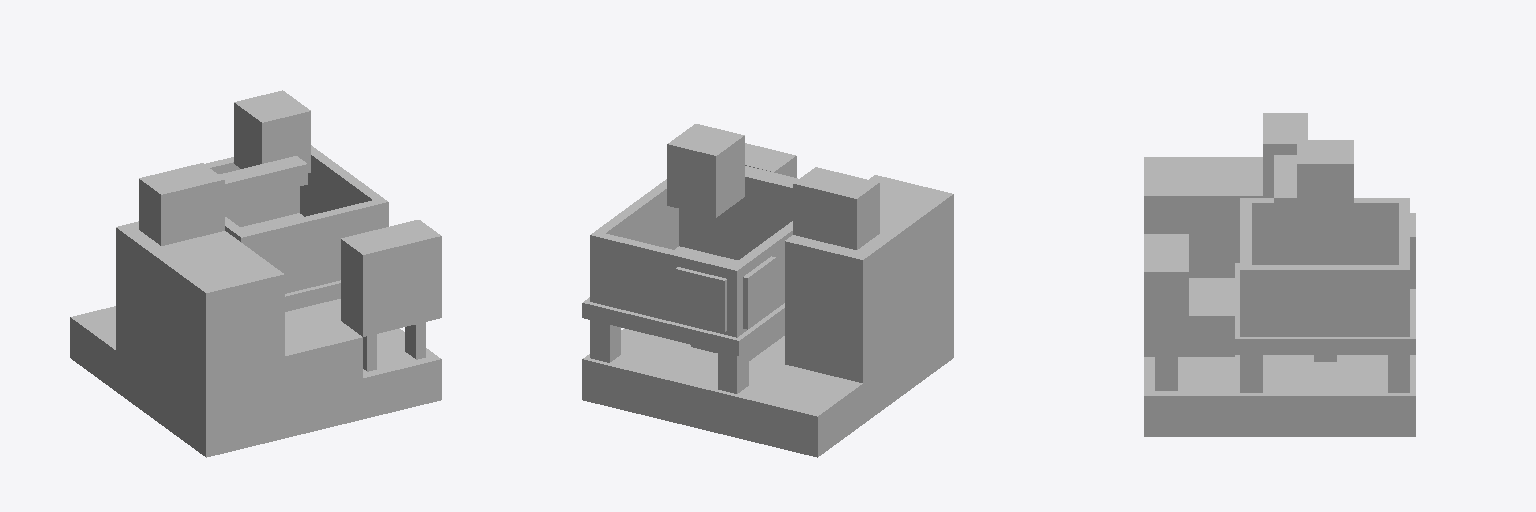
File: mixer.obj
3 views of the same model, side by side, from view 1: azimuth 30°, elevation 25°; view 2: azimuth 150°, elevation 25°; view 3: azimuth 270°, elevation 25° (orthographic).
Parts seen in each view (by area): view 1: energy, base, redstone, tank3, block, output, motor, tank2, arm, tank4, bottom, leg1; view 2: energy, base, tank4, motor, block, tank3, bottom, tank2, in1, tank1, in2, arm (+3 smaller); view 3: base, tank2, energy, tank1, redstone, motor, bottom, output, block, arm, fence3, fence4 (+3 smaller).
Boxes of the visible parts, <box> form: energy: <box>116,221,284,416</box>; base: <box>70,299,441,457</box>; redstone: <box>341,220,441,336</box>; tank3: <box>246,200,378,293</box>; block: <box>139,163,224,245</box>; output: <box>285,304,362,396</box>; motor: <box>234,90,310,172</box>; tank2: <box>300,145,388,228</box>; arm: <box>219,156,307,204</box>; tank4: <box>205,157,299,226</box>; bottom: <box>240,213,340,311</box>; leg1: <box>405,322,425,359</box>; energy: <box>785,175,953,382</box>; base: <box>582,317,953,457</box>; tank4: <box>600,233,732,334</box>; motor: <box>667,124,744,217</box>; block: <box>793,167,879,249</box>; tank3: <box>679,197,792,259</box>; bottom: <box>582,246,784,355</box>; tank2: <box>590,179,678,303</box>; in1: <box>675,267,726,331</box>; tank1: <box>727,221,792,337</box>; in2: <box>743,256,775,329</box>; arm: <box>745,166,798,208</box>; base: <box>1144,355,1415,436</box>; tank2: <box>1240,265,1409,336</box>; energy: <box>1144,157,1273,277</box>; tank1: <box>1240,198,1409,264</box>; redstone: <box>1144,234,1188,354</box>; motor: <box>1297,140,1353,225</box>; bottom: <box>1235,263,1415,354</box>; output: <box>1144,278,1234,356</box>; block: <box>1263,113,1307,195</box>; arm: <box>1274,155,1296,217</box>; fence3: <box>1240,355,1262,392</box>; fence4: <box>1388,355,1409,392</box>.
Bounding box in the file's own units: 3 × 3 × 3.